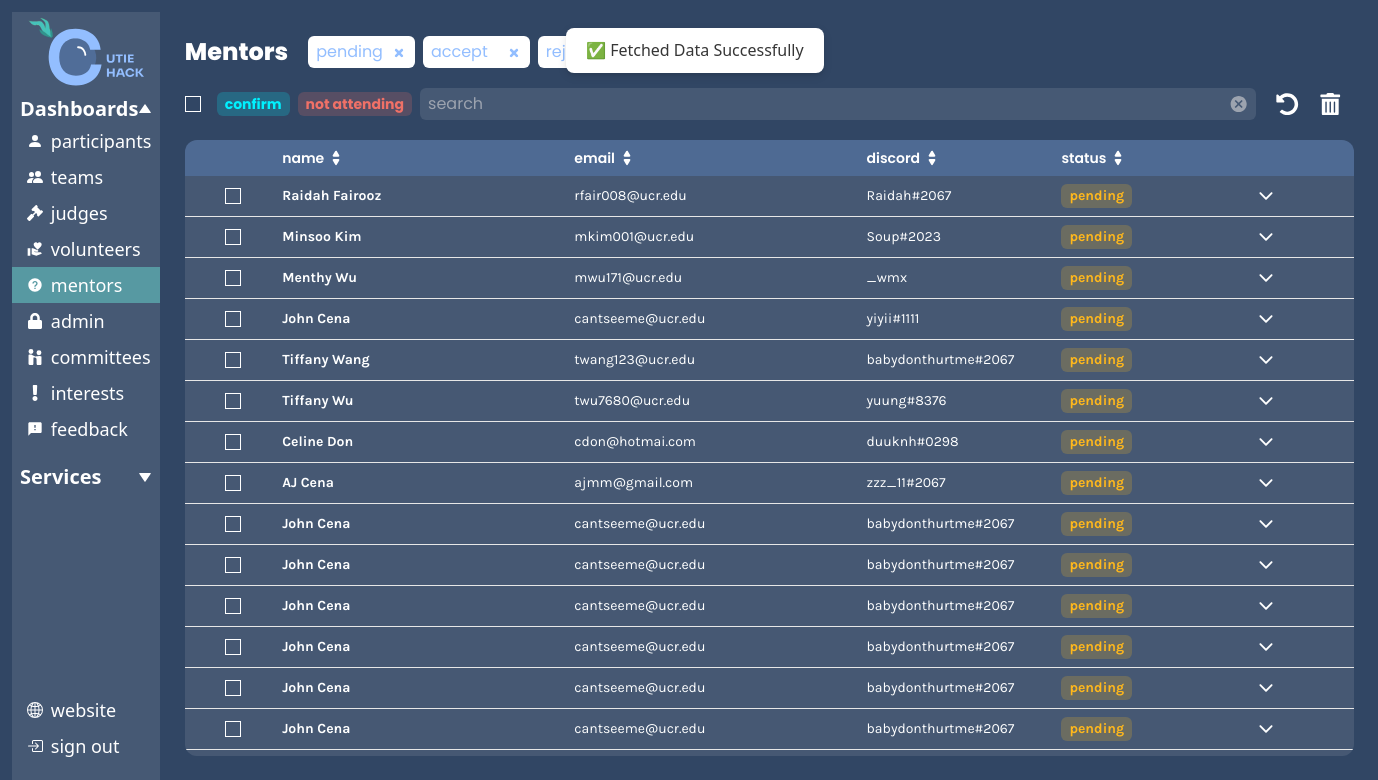
Test: Mentor Search › No Search Results
Type "Meow" into the field with test id "input-input" at (825, 104), box [420,88,1229,120]
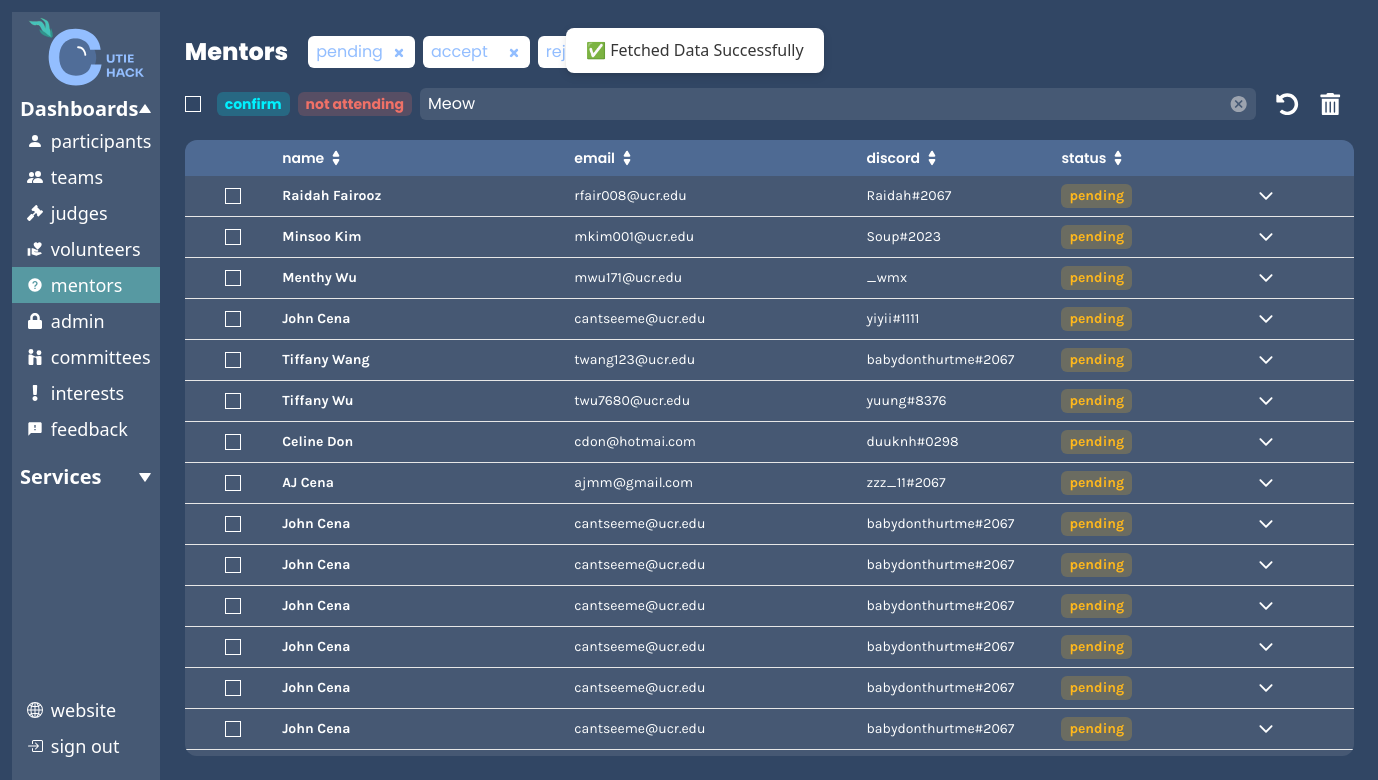
Submit the form, box [420,84,1256,124]
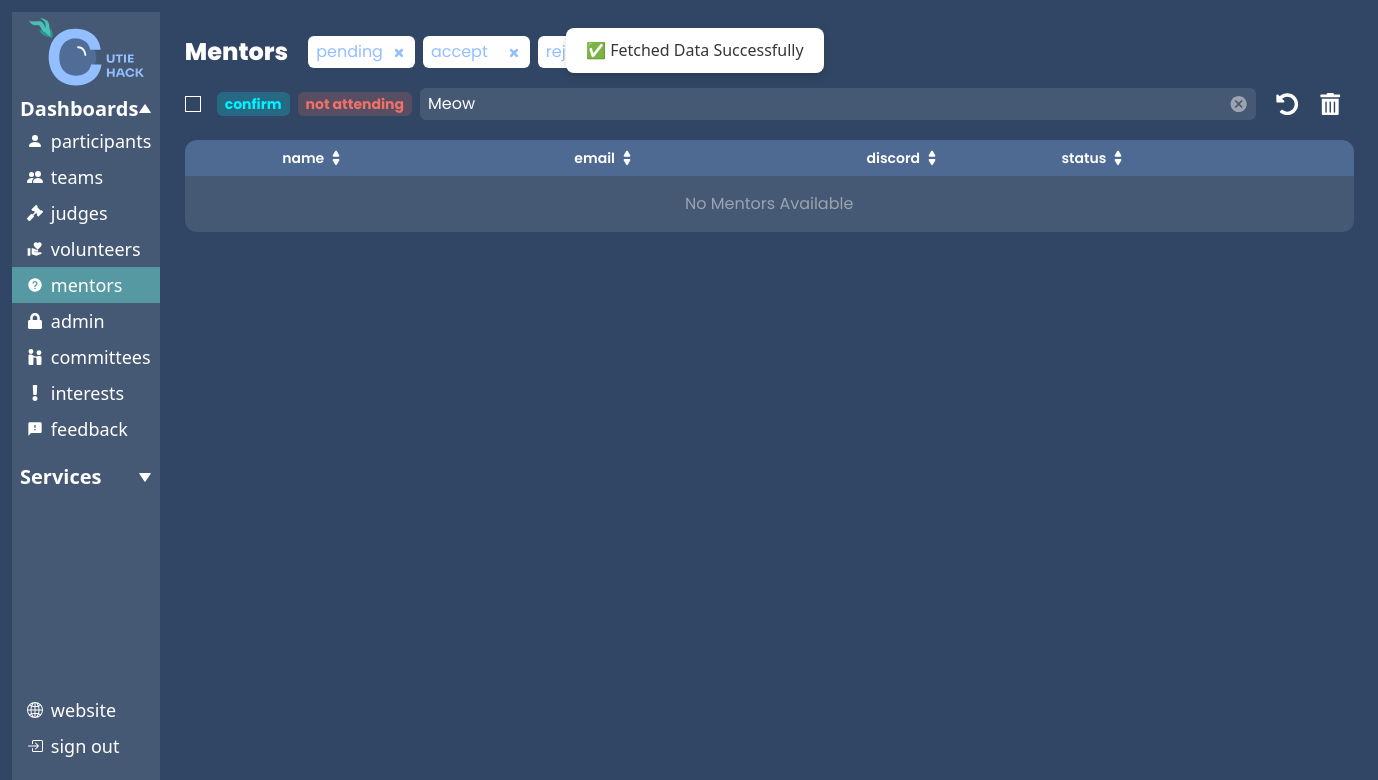
Now the text "No Mentors Available" is shown, box [685,192,853,215]
